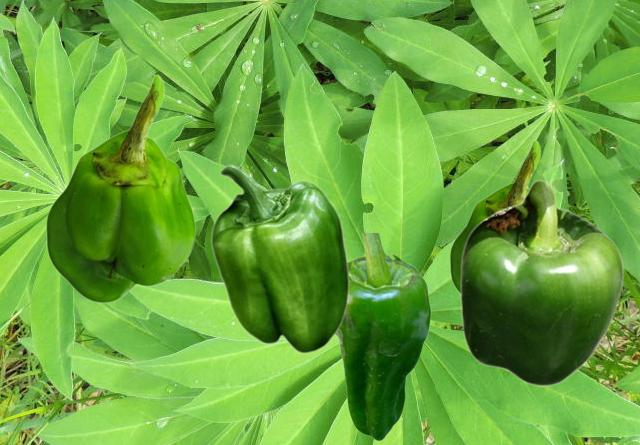bell_pepper: (45, 73, 195, 302), (459, 179, 623, 386), (210, 164, 349, 353), (336, 233, 430, 440), (449, 139, 541, 292)
